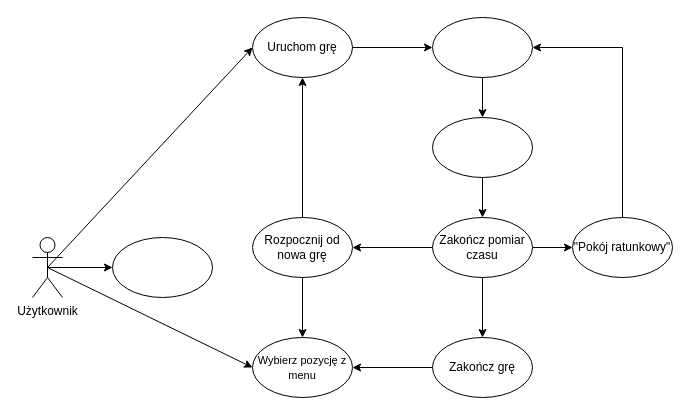
Some shapes in this 690 by 415 pixel diagram are drawn without their labels. Here are the shapes that lost their labels. From the top down, the centre of each, then its label:
At point (482, 47): "Rozpocznij poziom N".
At point (482, 147): "Rozpocznij pomiar czasu".
At point (162, 267): "Steruj postacią".
